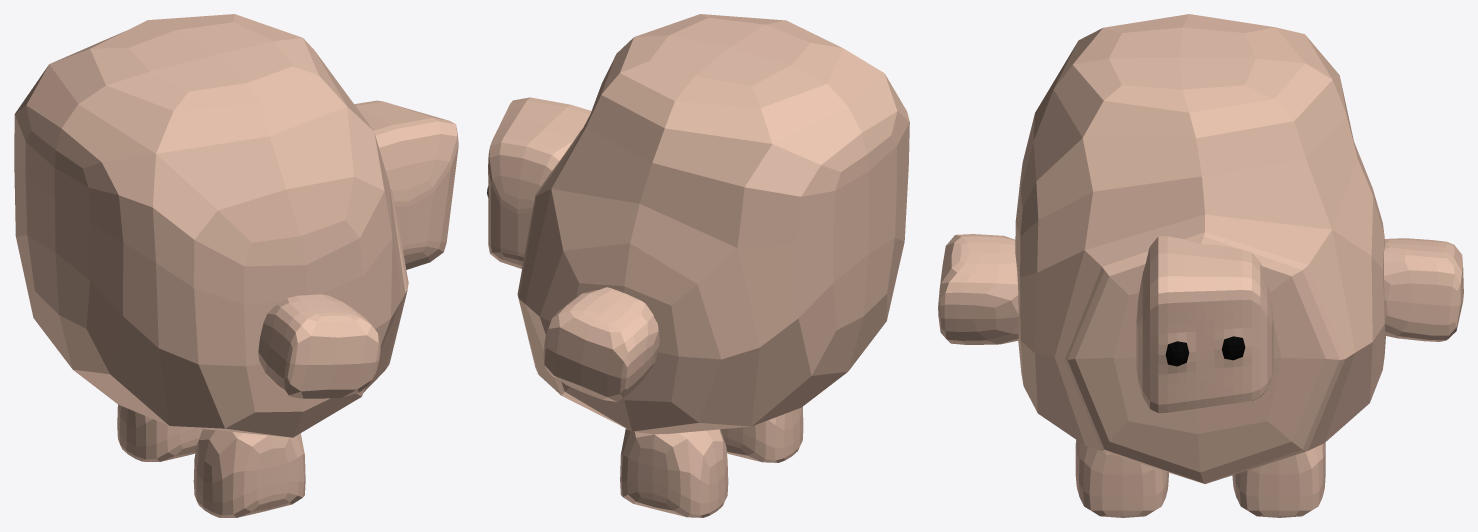
The model's file is rock.fbx.
The picture shows the model from 3 angles, left to right: view 1: azimuth 30°, elevation 25°; view 2: azimuth 150°, elevation 25°; view 3: azimuth 270°, elevation 25°; orthographic projection. The views are drawn at different scales.
Visible parts, largest first — view 1: Body, Left Arm, Head, Left leg, Right Leg; view 2: Body, Right Arm, Head, Right Leg, Left leg; view 3: Body, Head, Left Arm, Right Arm, Left leg, Right Leg.
Boxes of the visible parts, <box> form: Body: <box>14,14,408,437</box>; Left Arm: <box>258,294,380,398</box>; Head: <box>354,100,458,269</box>; Left leg: <box>193,429,305,517</box>; Right Leg: <box>117,404,202,461</box>; Body: <box>517,14,909,434</box>; Right Arm: <box>543,287,659,401</box>; Head: <box>487,97,591,268</box>; Right Leg: <box>620,428,728,517</box>; Left leg: <box>720,406,803,462</box>; Body: <box>1015,14,1385,483</box>; Head: <box>1136,236,1273,413</box>; Left Arm: <box>938,234,1018,344</box>; Right Arm: <box>1384,238,1463,341</box>; Left leg: <box>1075,439,1168,517</box>; Right Leg: <box>1232,442,1325,517</box>.
Size of the model in its own units: 678 by 726 by 785.
